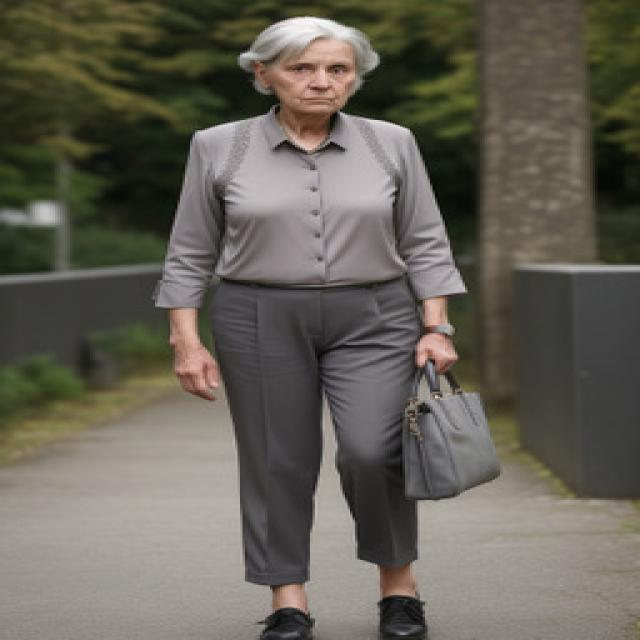Ai human 2: (150, 9, 522, 640)
